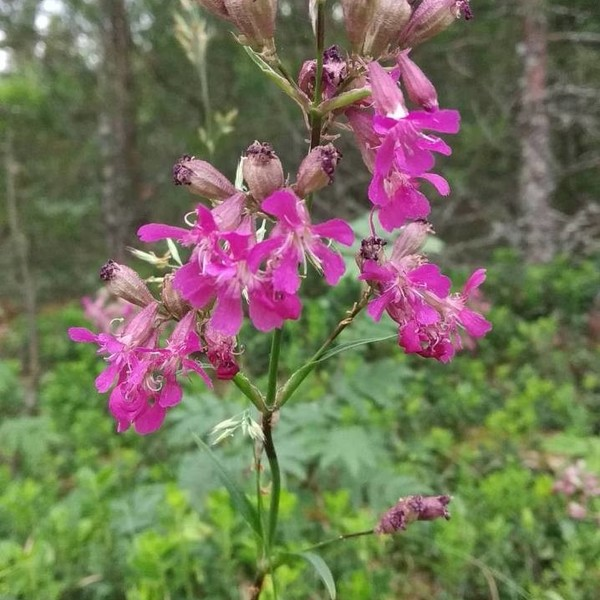obstacle: (59, 23, 482, 596)
